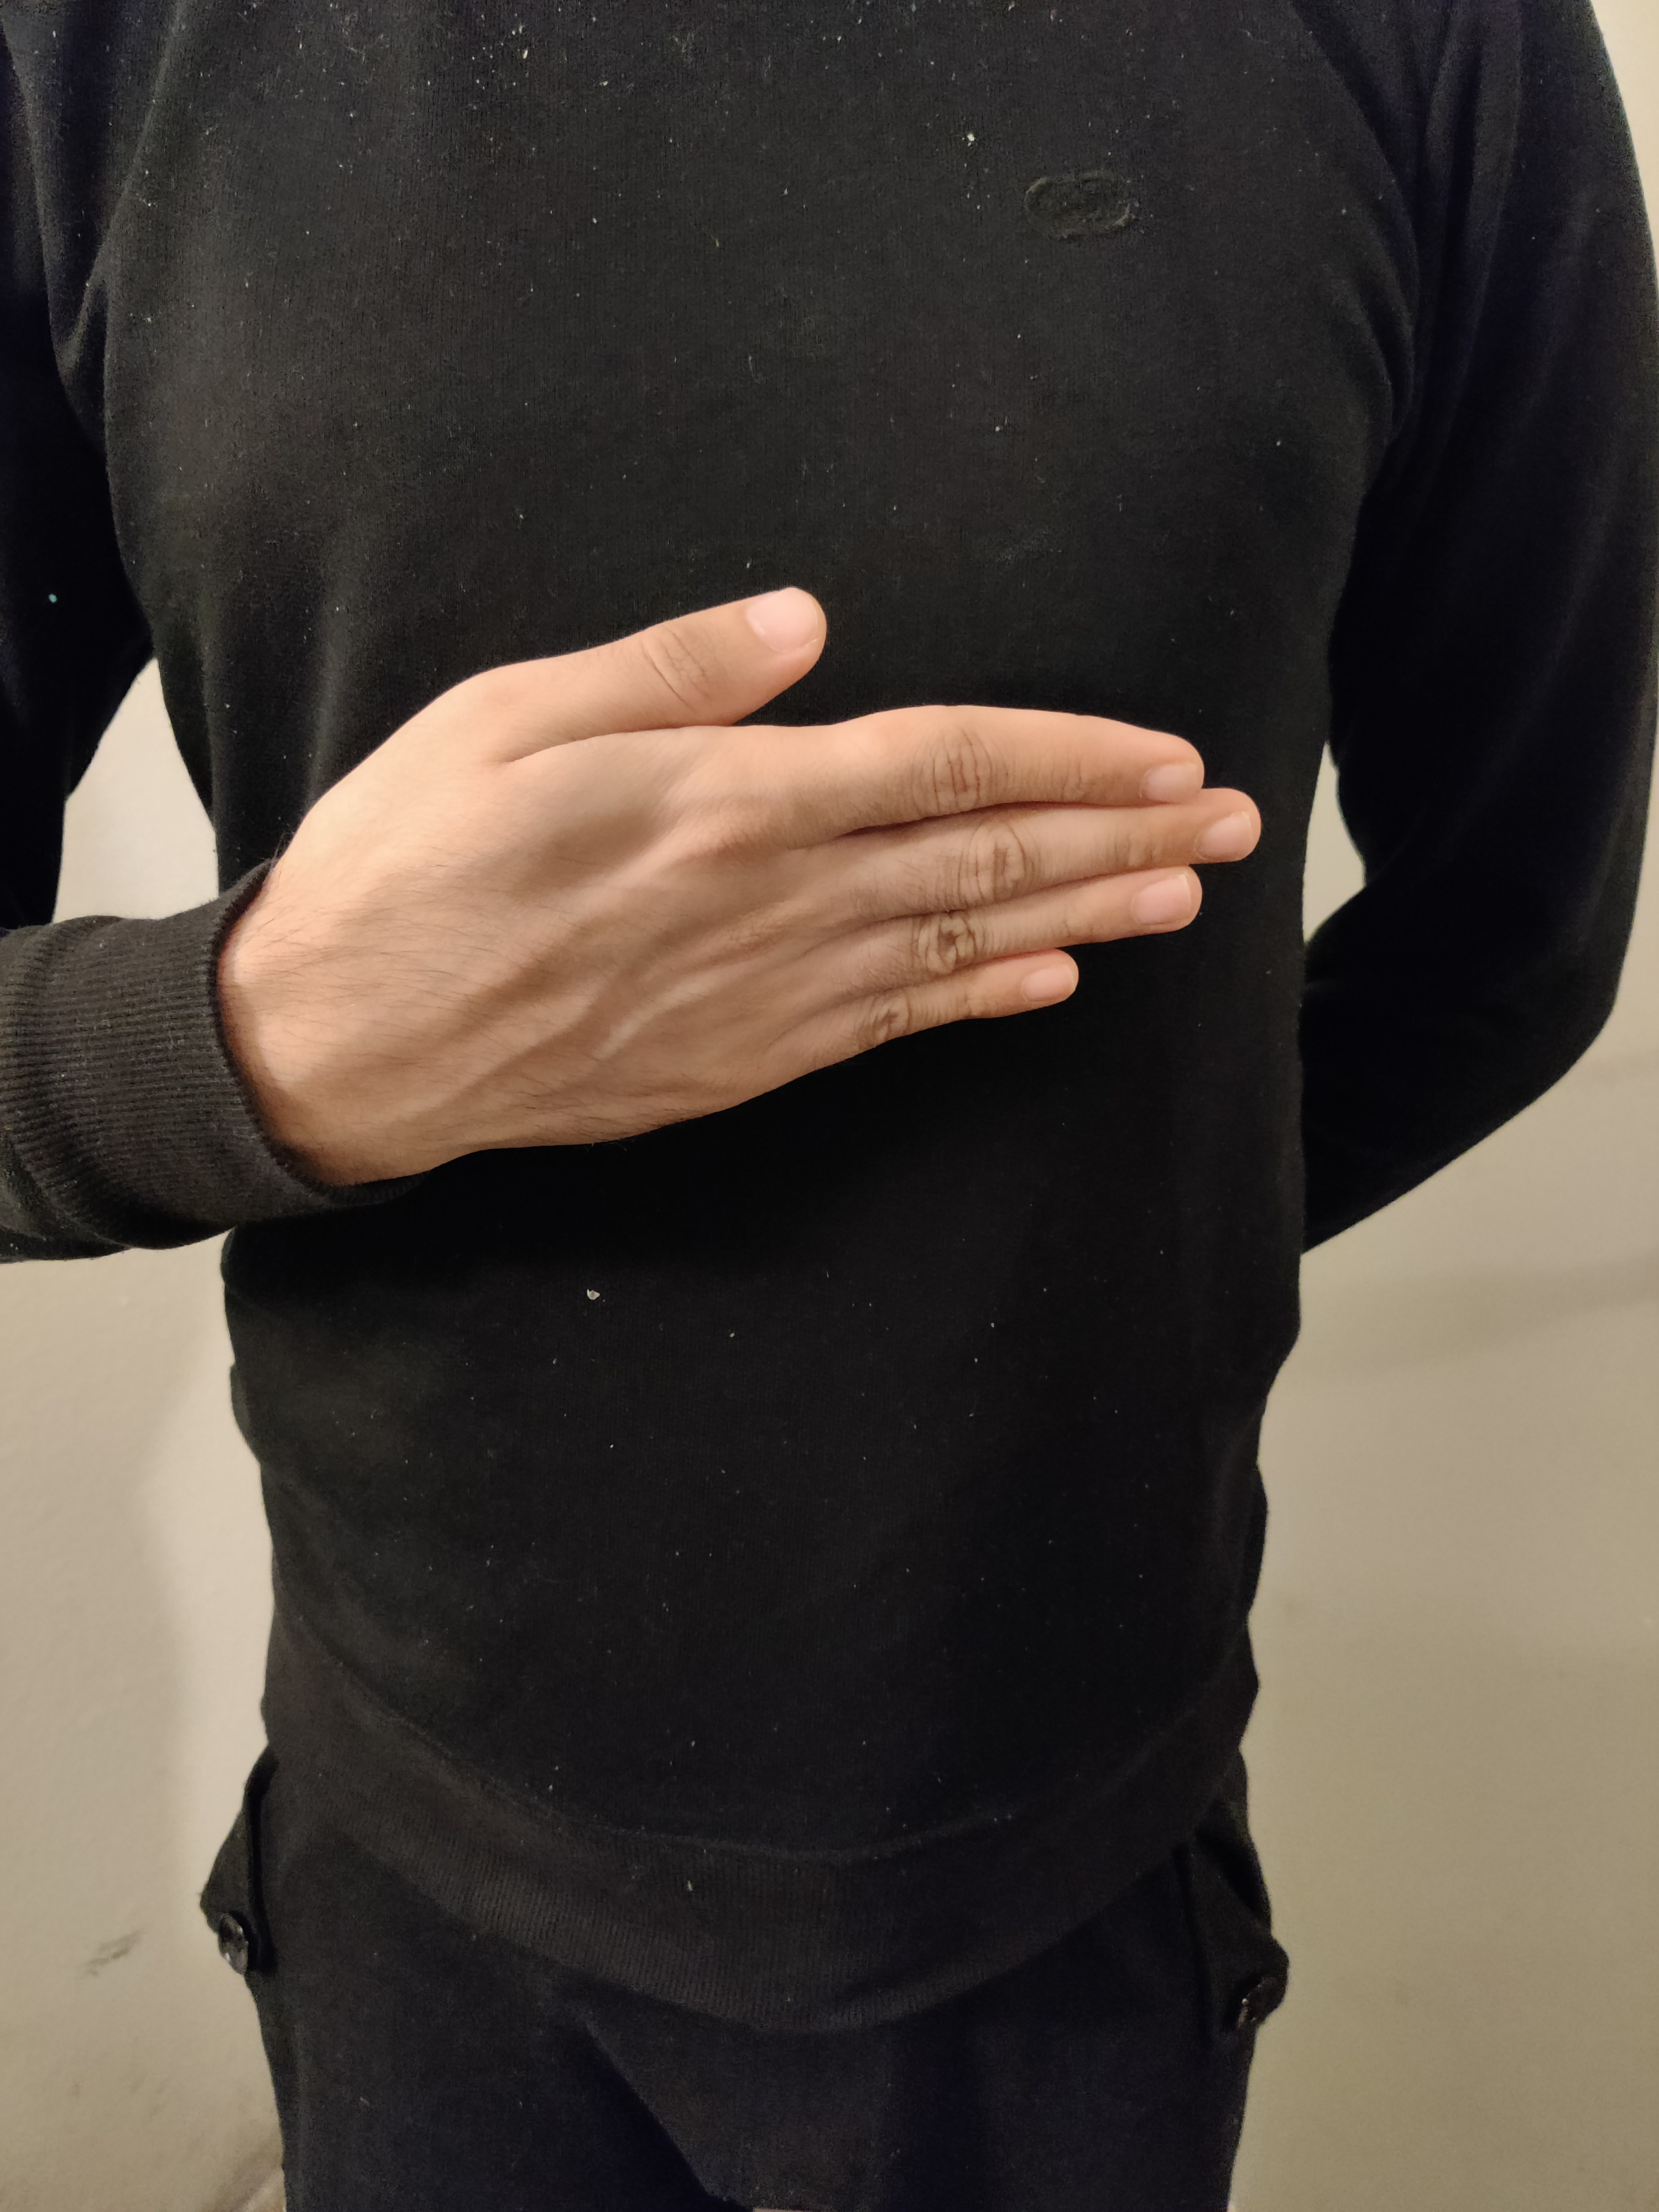left: (16, 460, 1432, 1118)
